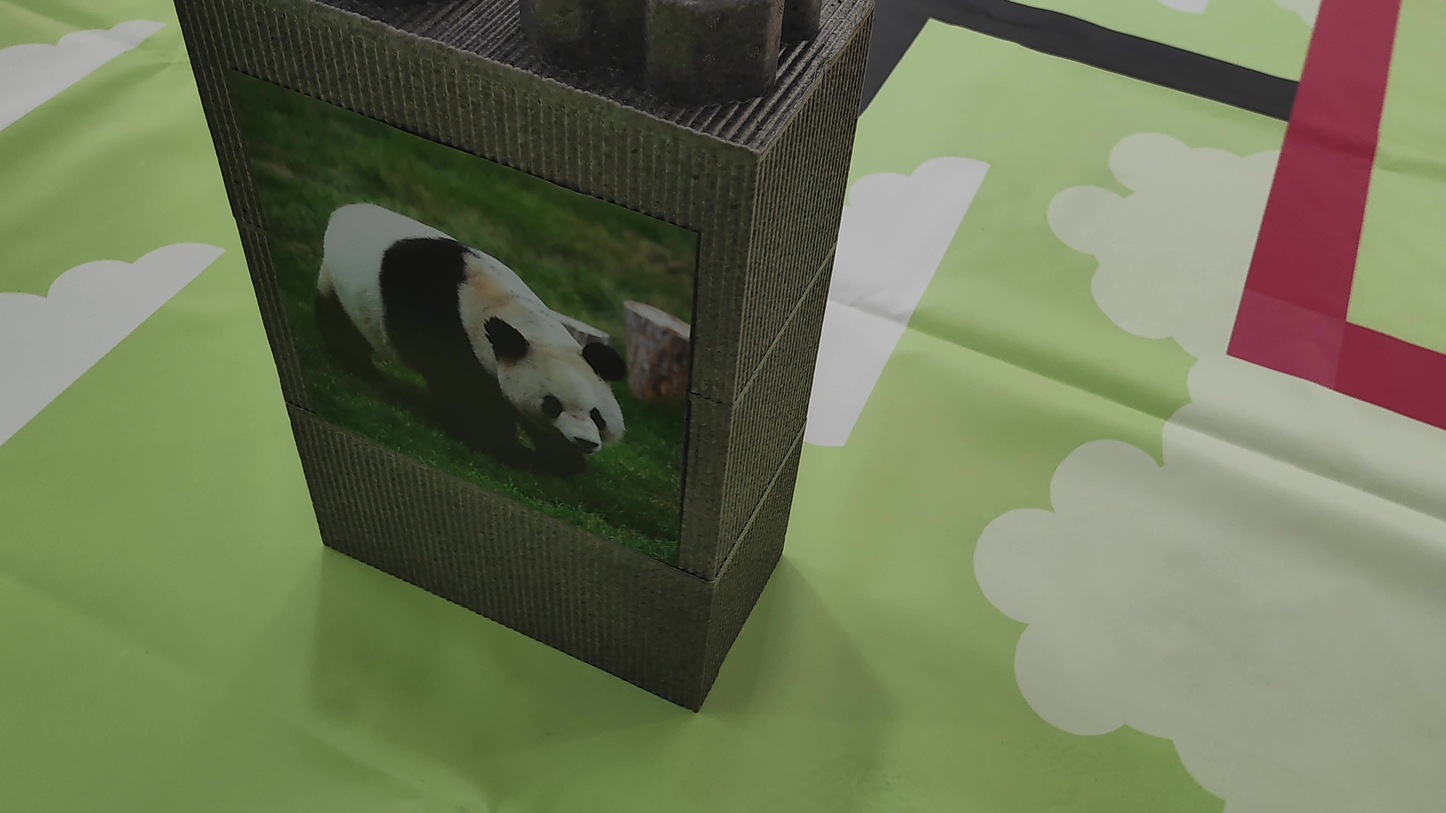panda: (278, 184, 626, 489)
